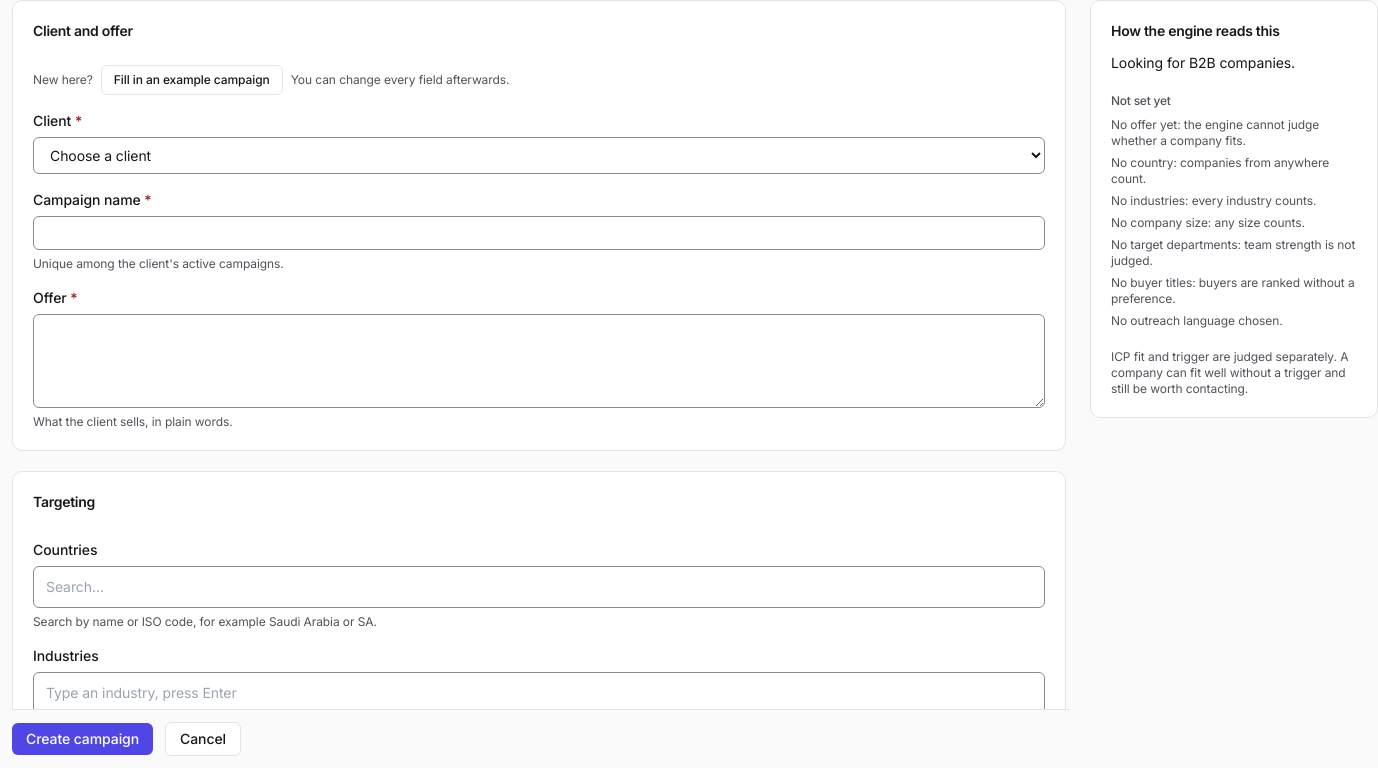
it: CampaignForm (create) › maps API field errors (nested under profile) to the right fields
Select "SkyLight" in the dropdown labelled "Client *" at point(539, 156), box [33,137,1045,174]
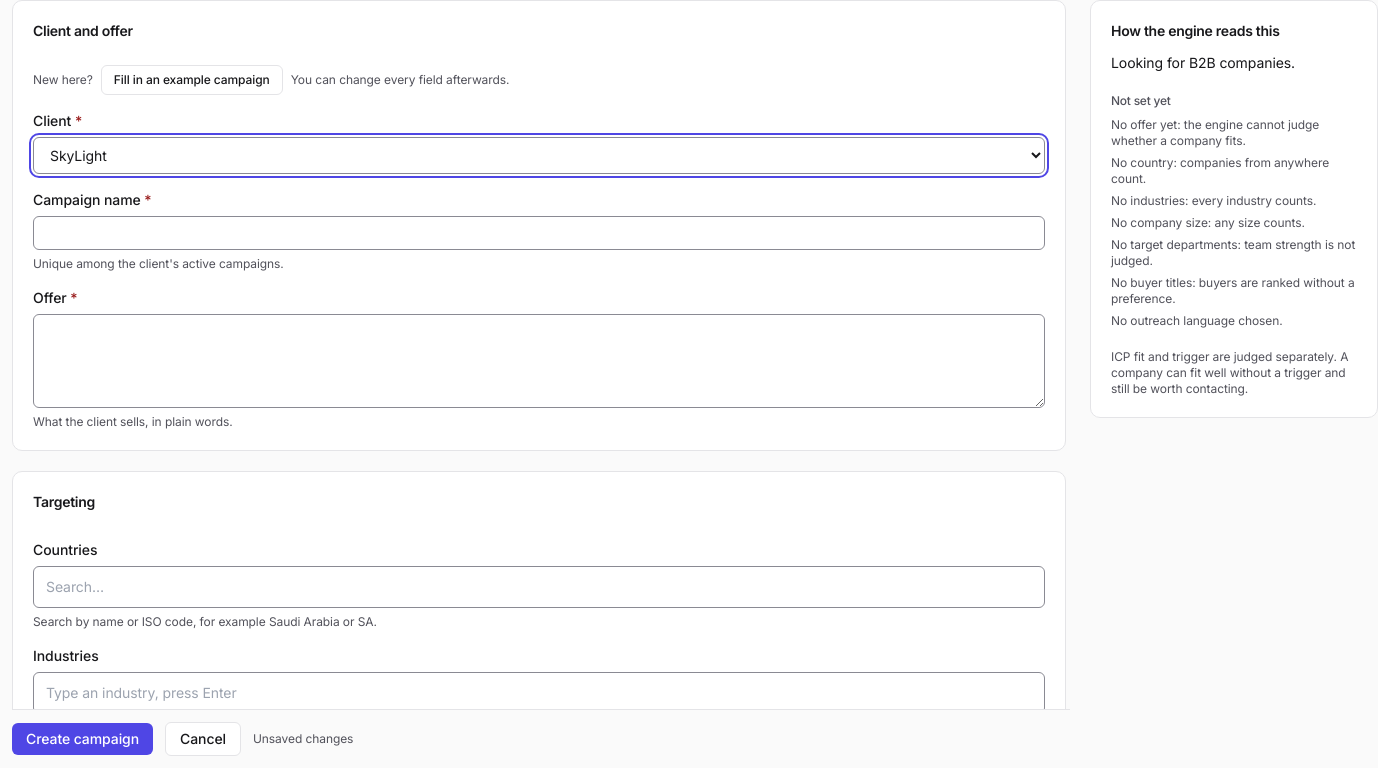
Type "Dup" into the field labelled "Campaign name *".
click(539, 233); type("Dup")  # box [33,216,1045,250]
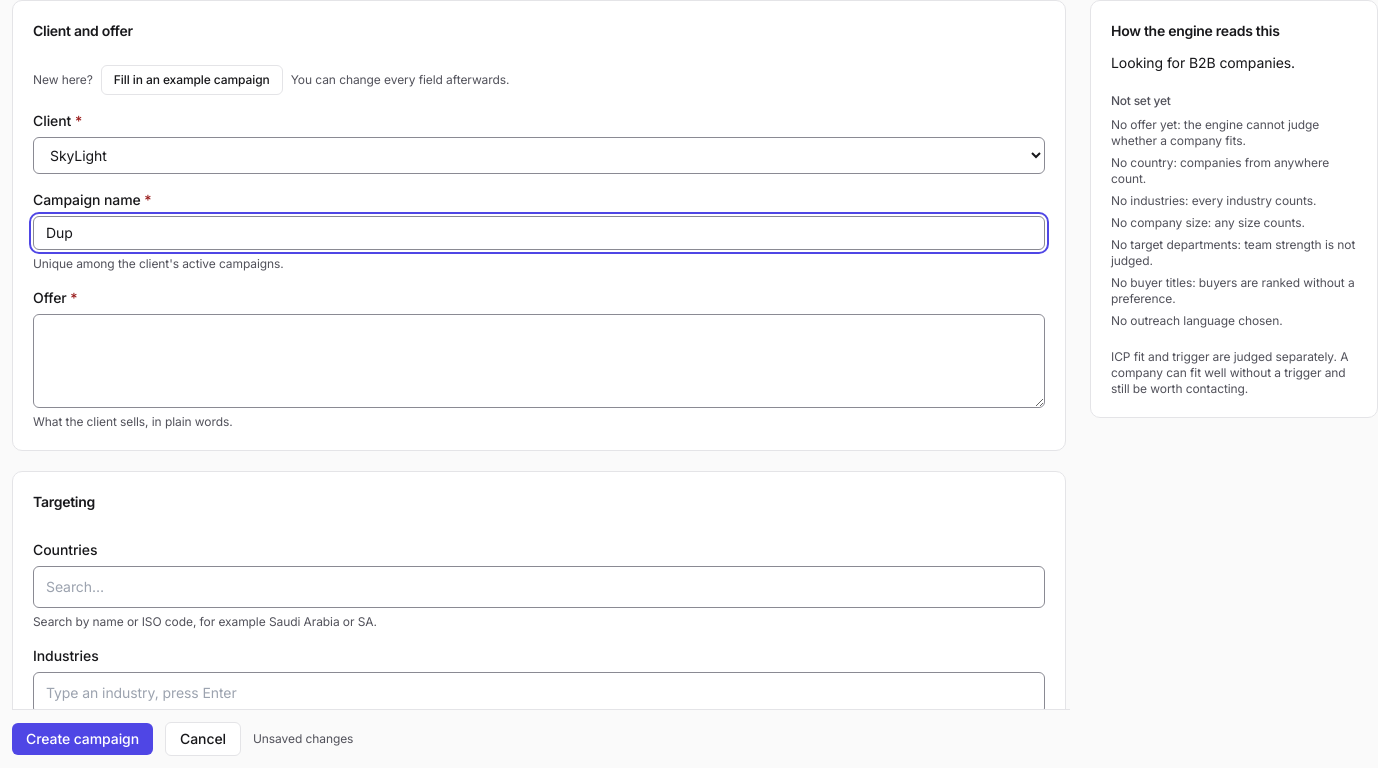
Type "Offer" into the text box labelled "Offer *".
click(539, 361); type("Offer")  # box [33,314,1045,408]
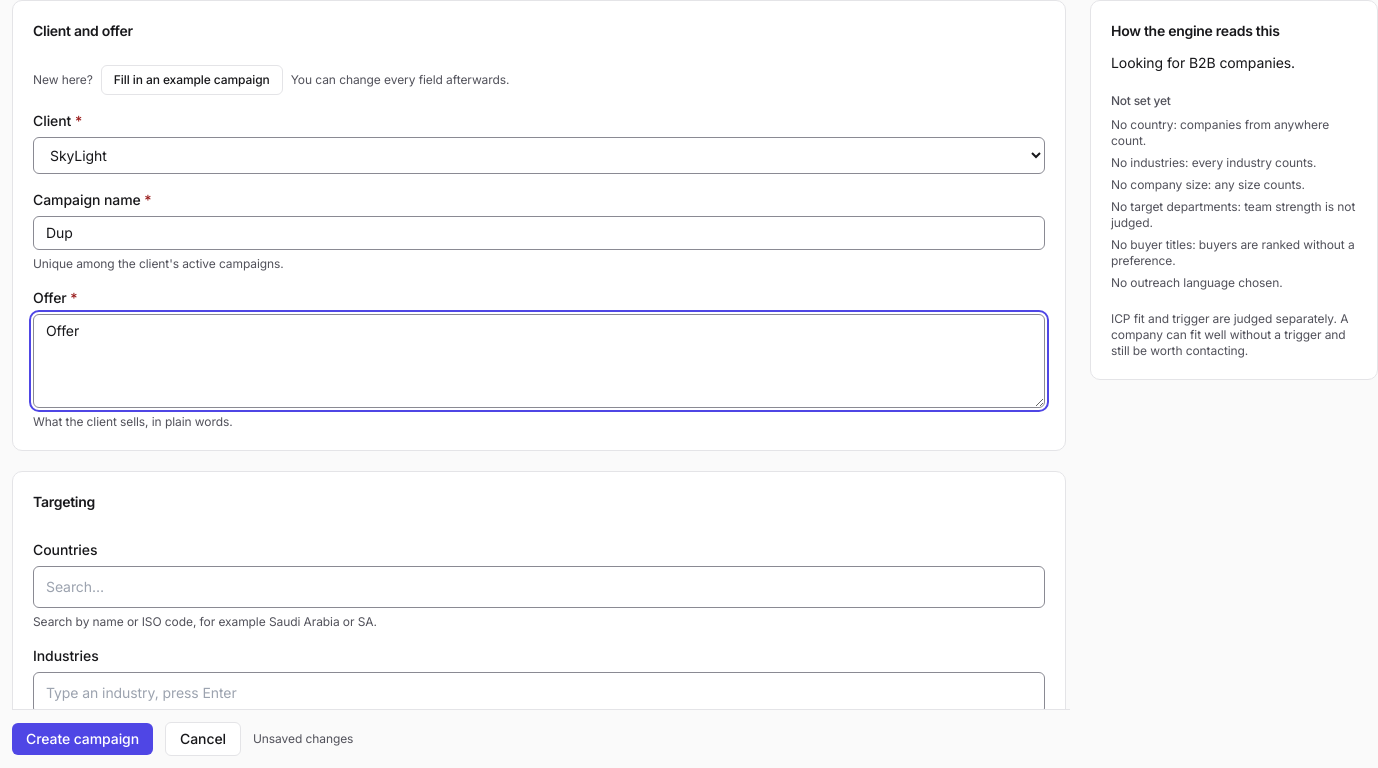
Click the button "Create campaign".
click(82, 739)  # box [12,723,153,755]
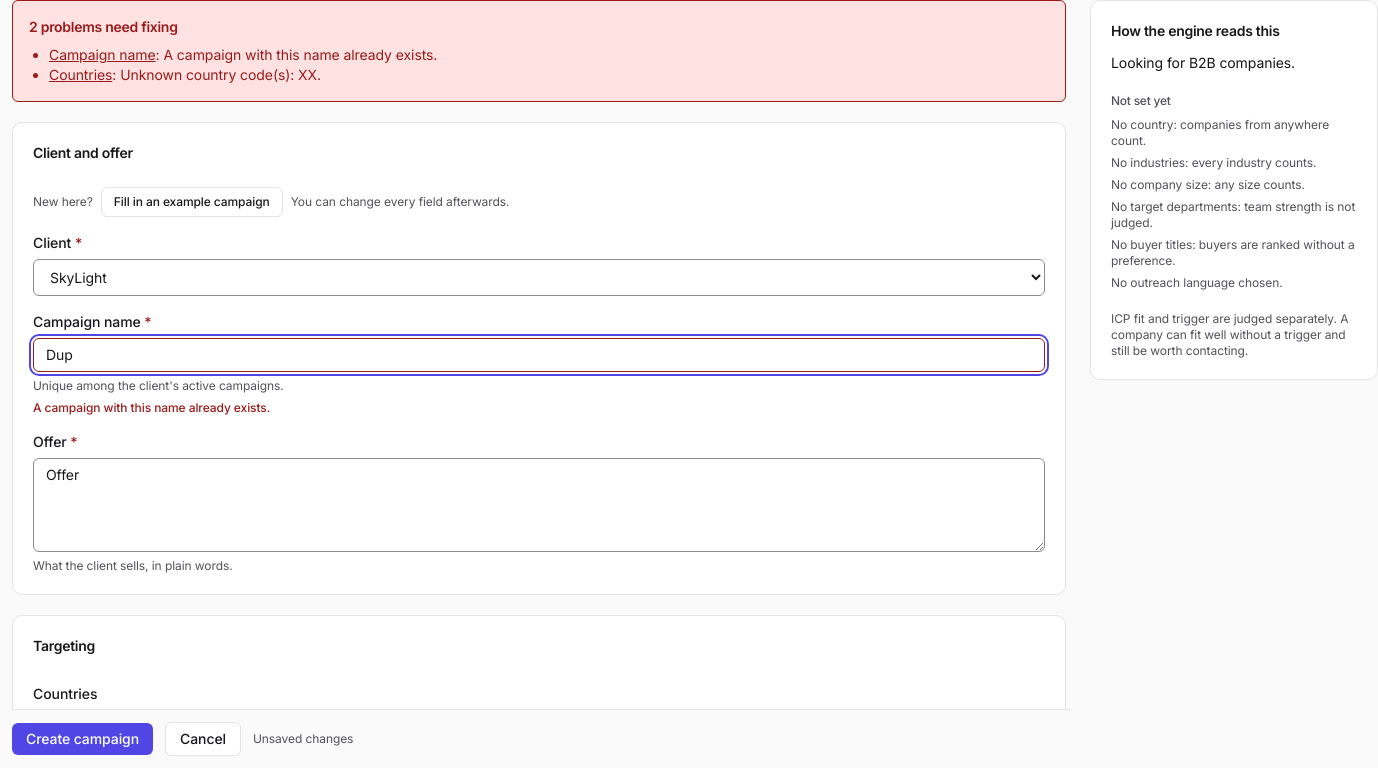
Check: the message shows "2 problems need fixing", box [29,18,178,35]
